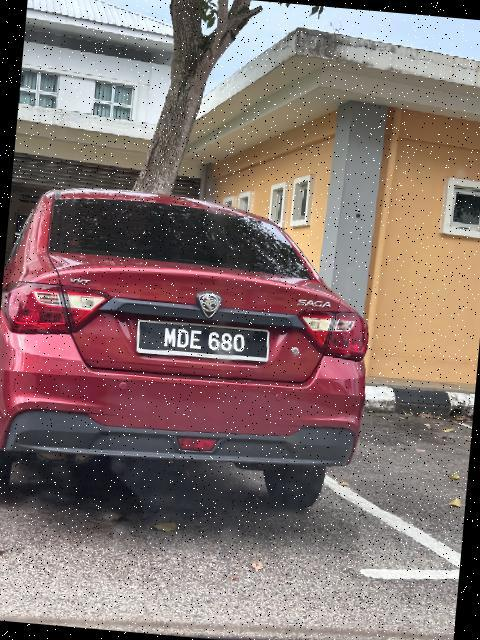License_Plate: (133, 315, 271, 371)
MDE680: (133, 315, 271, 371)
car: (1, 167, 385, 529)
